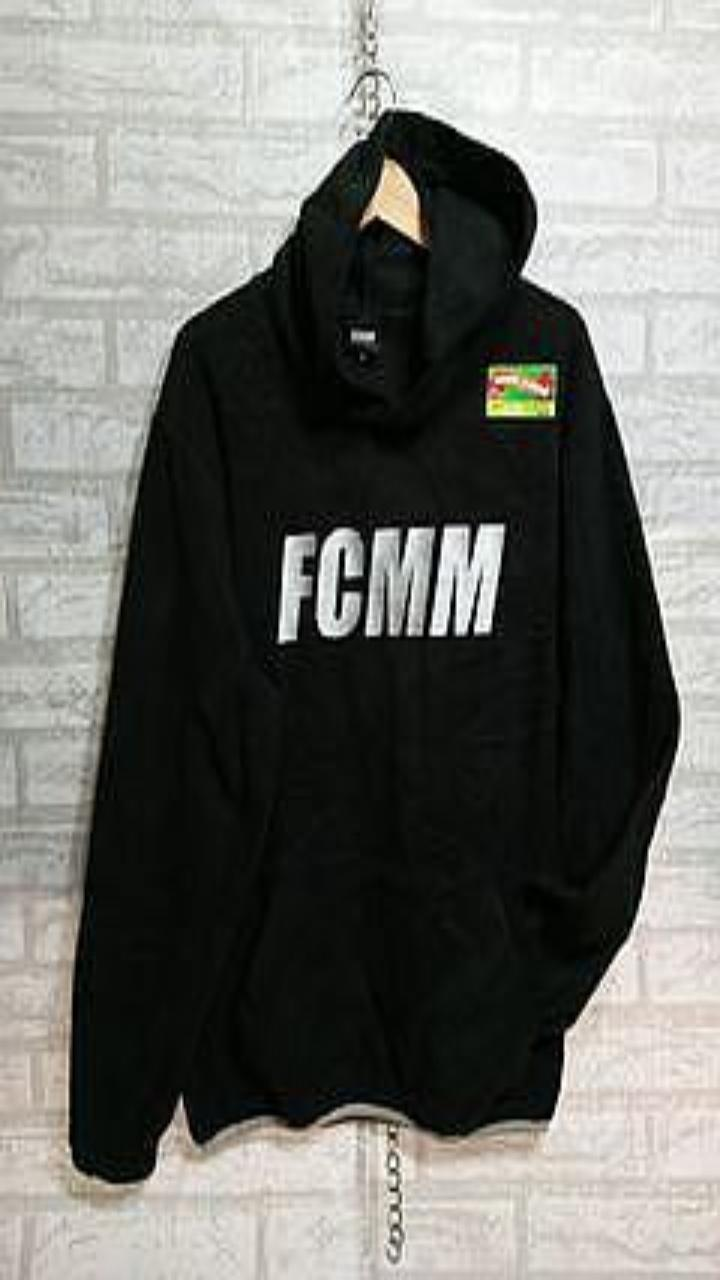Hoodie: (69, 109, 679, 1181)
